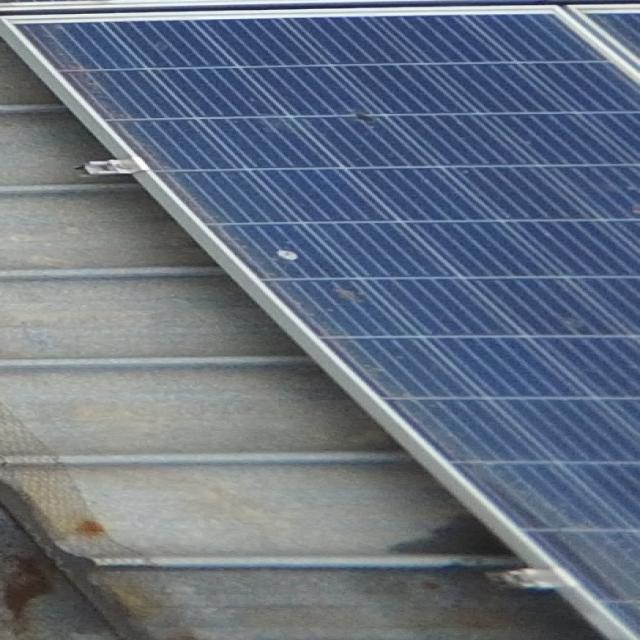Dust: (30, 16, 248, 233), (457, 409, 640, 639)
bird-droppings: (325, 284, 369, 306), (278, 242, 308, 267), (338, 106, 378, 124)
